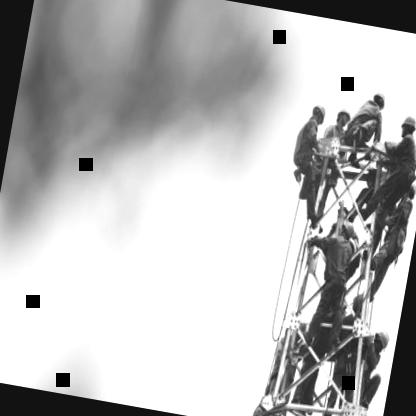helmet: (370, 323, 394, 359), (335, 217, 360, 247), (332, 102, 356, 132), (308, 97, 330, 129), (397, 111, 416, 141), (369, 85, 390, 112), (402, 177, 416, 201)
